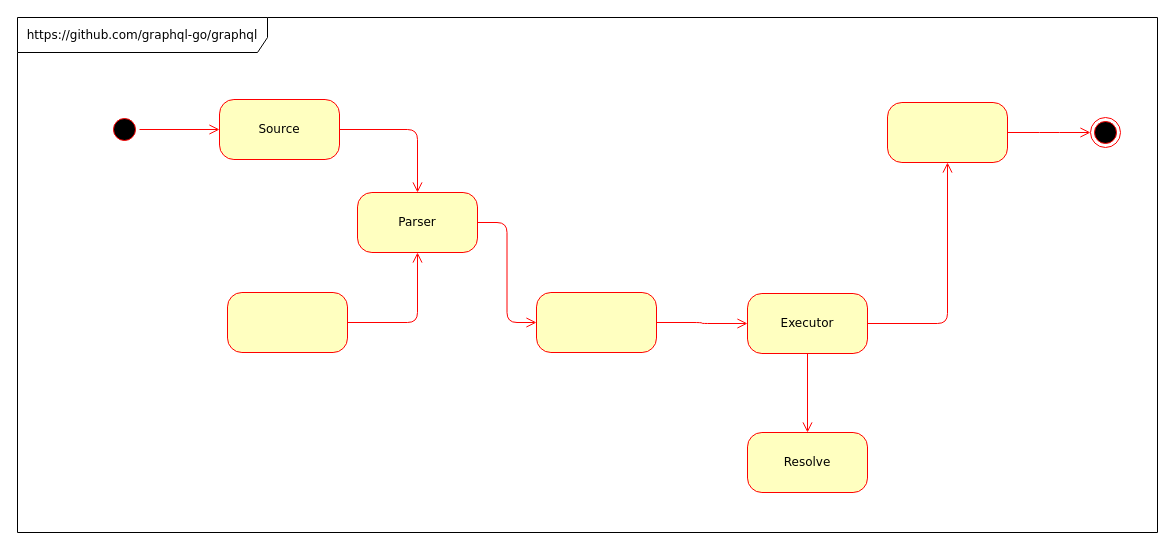
Some shapes in this 1175 by 550 pixel diagram are drawn without their labels. The box of each missing label's shape, as (x1, y1, x2, y2) in pixels:
AST: (536, 292, 656, 352)
Lexer: (226, 292, 348, 352)
Result: (886, 102, 1008, 162)
